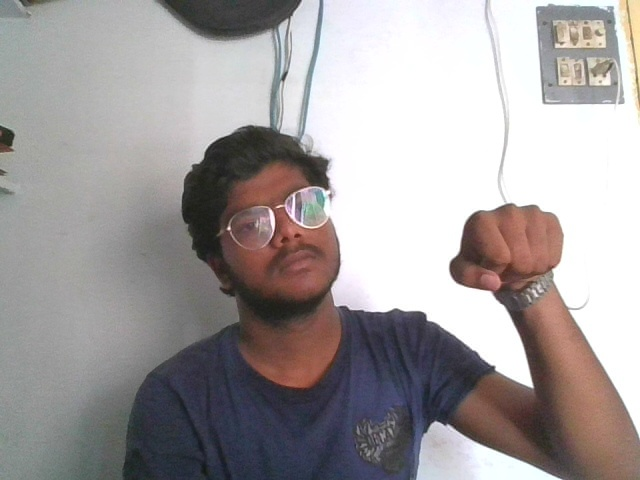Yes: (447, 202, 572, 290)
